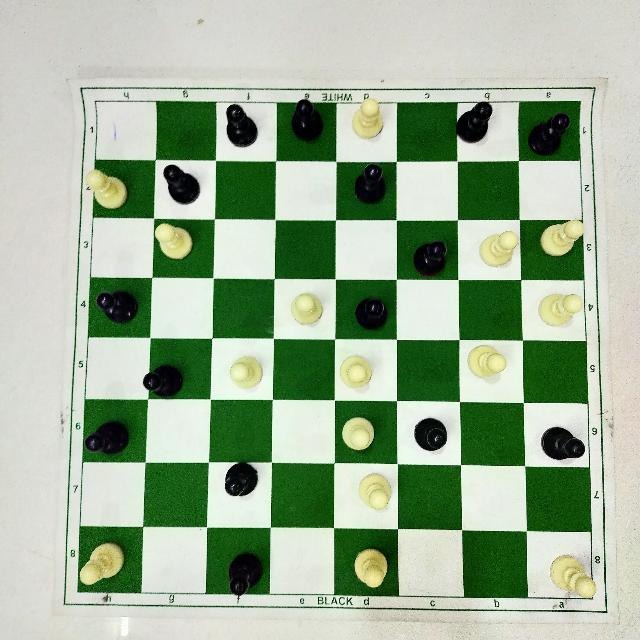black-pawn: (525, 111, 577, 157), (84, 418, 136, 460), (224, 549, 268, 597), (455, 94, 497, 144), (91, 287, 142, 328), (536, 422, 588, 462), (348, 162, 392, 207), (138, 360, 187, 400), (221, 102, 263, 148), (288, 96, 328, 143), (162, 162, 204, 205), (412, 238, 455, 280), (219, 457, 263, 498), (409, 413, 449, 452), (355, 292, 392, 334)
white-pawn: (541, 550, 599, 600), (77, 539, 129, 591), (534, 286, 585, 329), (353, 469, 401, 513), (536, 218, 588, 258), (83, 168, 132, 210), (349, 546, 395, 588), (473, 228, 519, 268), (350, 93, 387, 142), (336, 413, 378, 456), (336, 350, 378, 393), (154, 222, 198, 262), (463, 341, 509, 378), (227, 353, 267, 393), (287, 290, 325, 330)
